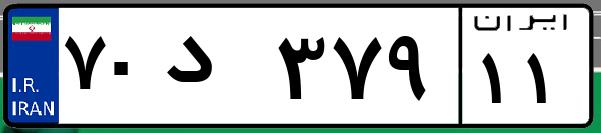0: (110, 28, 158, 98)
1: (475, 38, 525, 113), (525, 38, 570, 115)
3: (270, 28, 330, 110)
7: (330, 28, 385, 110), (57, 26, 110, 100)
9: (385, 28, 445, 110)
د: (158, 20, 270, 120)
